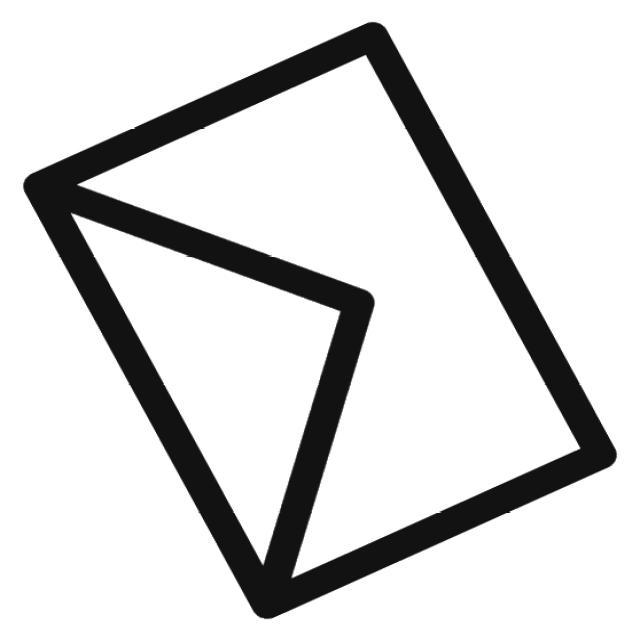letter: (17, 16, 632, 628)
